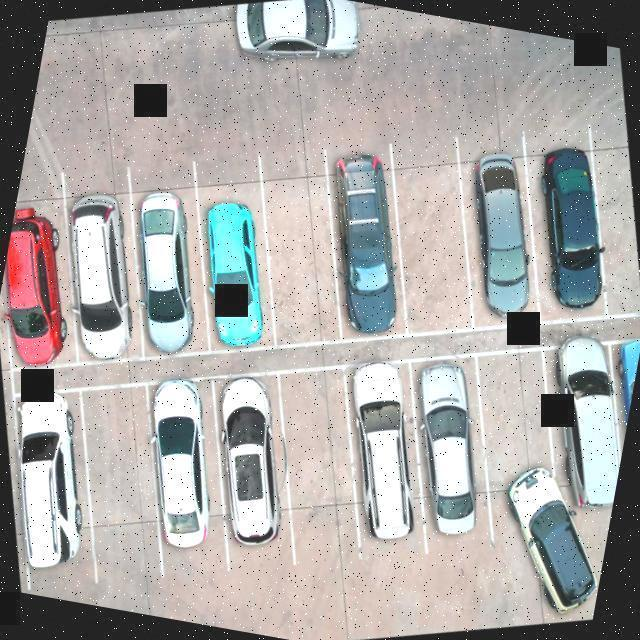space-empty: (363, 136, 499, 345), (232, 147, 371, 347), (52, 379, 188, 579), (247, 355, 379, 543), (564, 132, 640, 326)
space-occupied: (494, 131, 640, 339), (96, 167, 238, 367), (428, 131, 569, 329), (381, 345, 518, 540), (35, 172, 172, 364), (451, 339, 585, 531), (302, 142, 434, 336), (126, 368, 256, 564), (174, 163, 306, 354), (317, 352, 449, 541), (0, 377, 124, 574), (515, 324, 640, 516), (193, 367, 319, 551), (0, 184, 107, 379), (581, 328, 640, 496)
